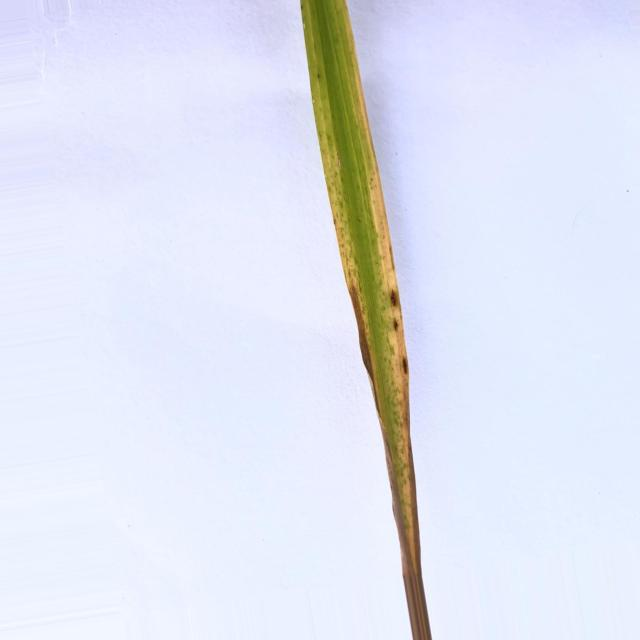Brown_Spot: (390, 290, 400, 307), (393, 318, 402, 329)
Rice Tungro: (301, 0, 431, 640)
